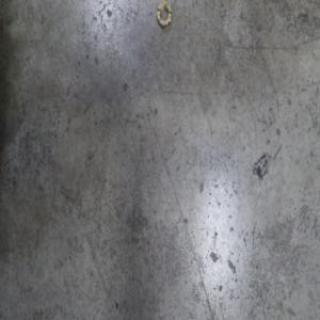Nuttrack_idkeyframe: (154, 0, 172, 29)
